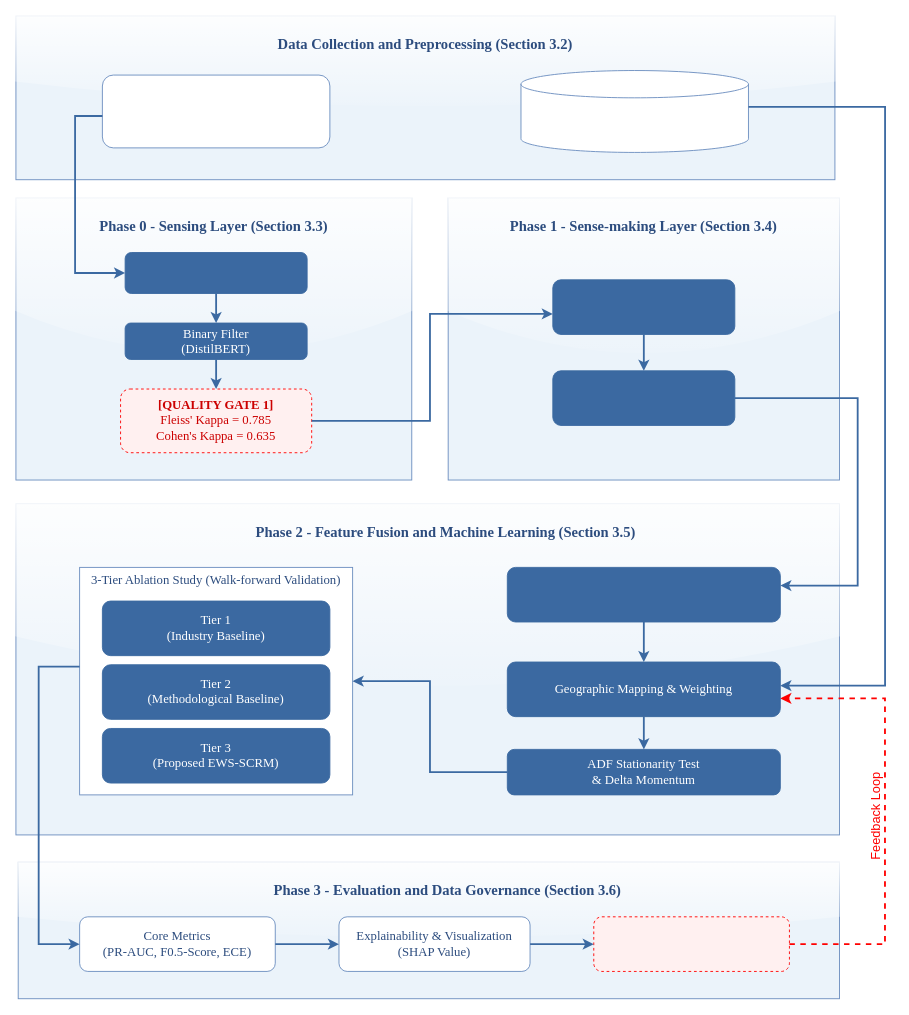
This 909x1015 diagram has some shape labels left out. The shapes that lost their labels are listed below. From the top down, each one's centre as x and y in pixels, then its label:
At pixel 215 111: "Textual Data Source (GDELT Project & NewsAPI, 2022-2024, ~7,200 articles)".
At pixel 634 111: "Operational Data Source (Aerospace Inbound Logistics, Inventory & Lead-time)".
At pixel 215 272: "Manual Labeling (2,309 articles)".
At pixel 643 306: "Taxonomy Extraction (BART-large-MNLI)".
At pixel 643 397: "Severity Specialist (Context Shells)".
At pixel 643 594: "Time-Series Aggregation (Weekly)".
At pixel 691 943: "[QUALITY GATE 2] SHA-256 Data Governance".
